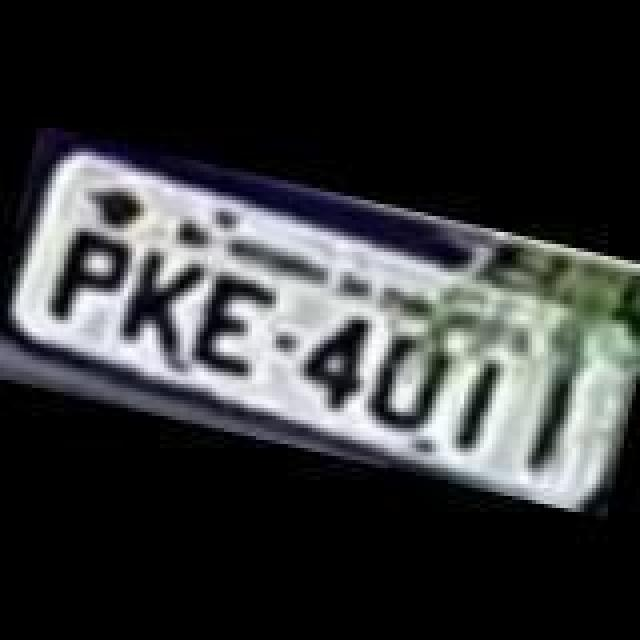1: (444, 352, 508, 464), (518, 366, 578, 482)
4: (290, 302, 382, 418)
E: (186, 272, 278, 384)
K: (112, 244, 208, 364)
O: (360, 322, 456, 446)
P: (42, 224, 134, 336)
